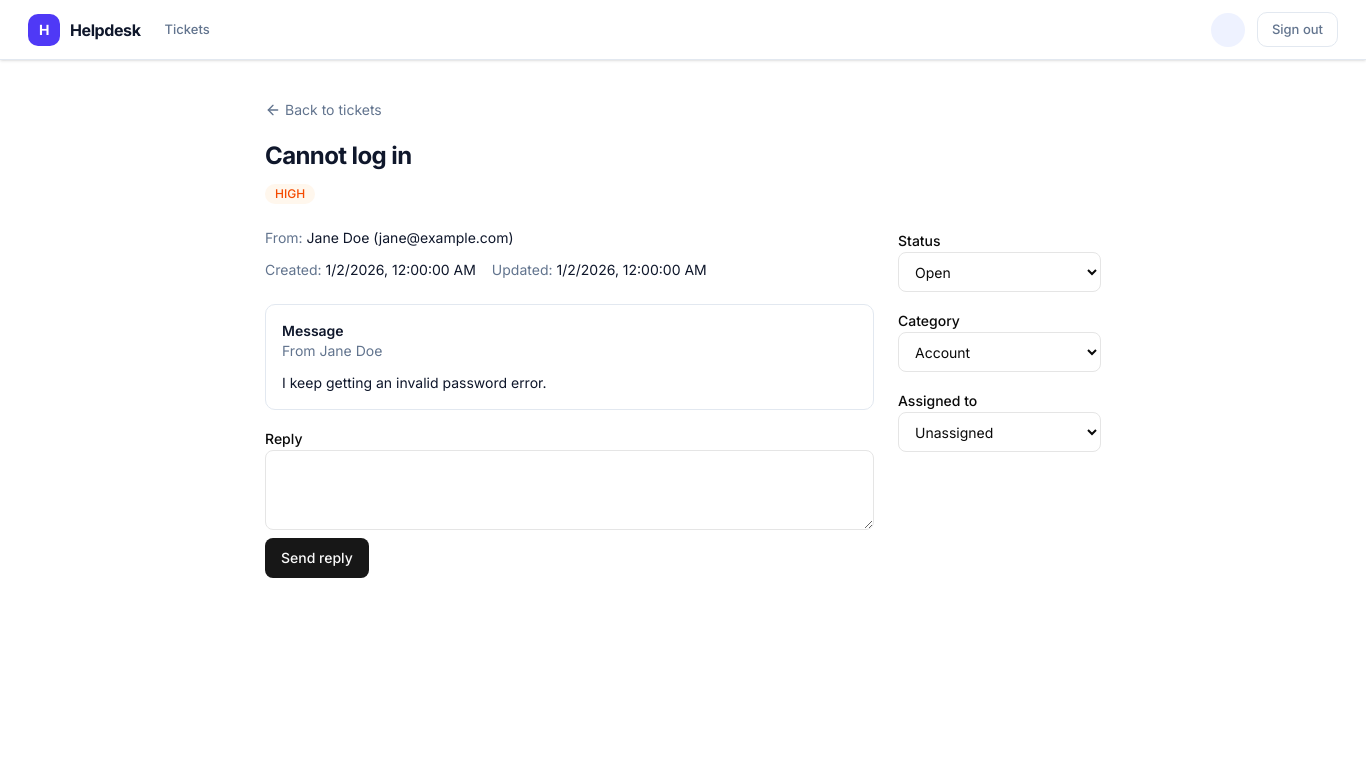
Test: TicketDetailPage › shows a validation error and does not submit when the reply is empty
Expected: the heading "Cannot log in" is shown, [265,141,412,170]
Click the button "Send reply": (317, 558) [265,538,369,578]
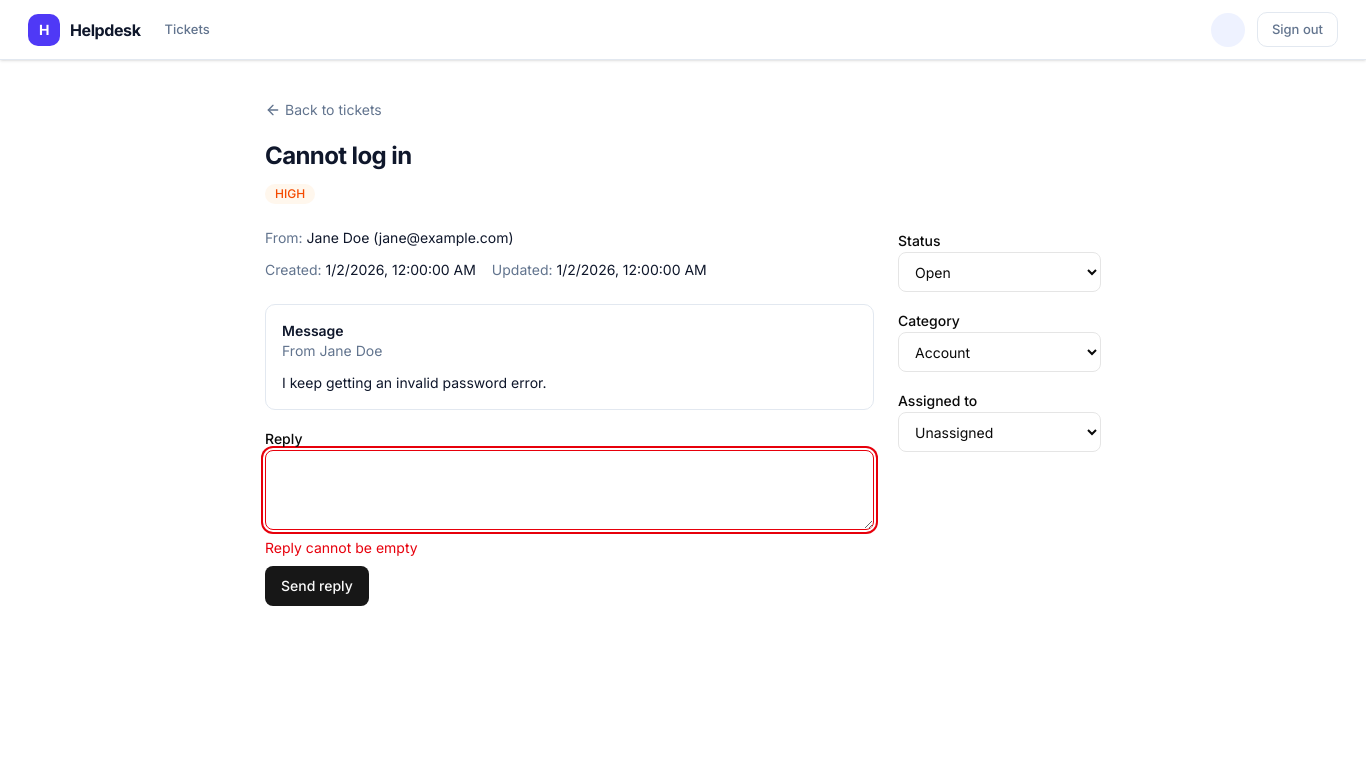
Now the text "Reply cannot be empty" is shown, box [265,539,418,556]
